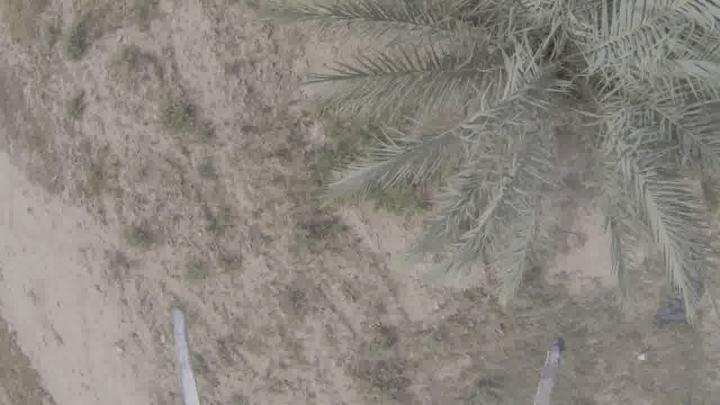Date-Palm-Crown: (428, 0, 720, 206)
